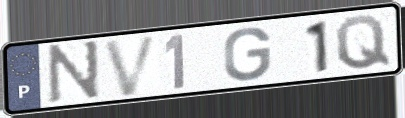1: (303, 18, 332, 75), (163, 32, 186, 91)
G: (222, 26, 273, 84)
N: (46, 38, 101, 106)
Q: (333, 13, 394, 72)
V: (100, 32, 162, 99)
